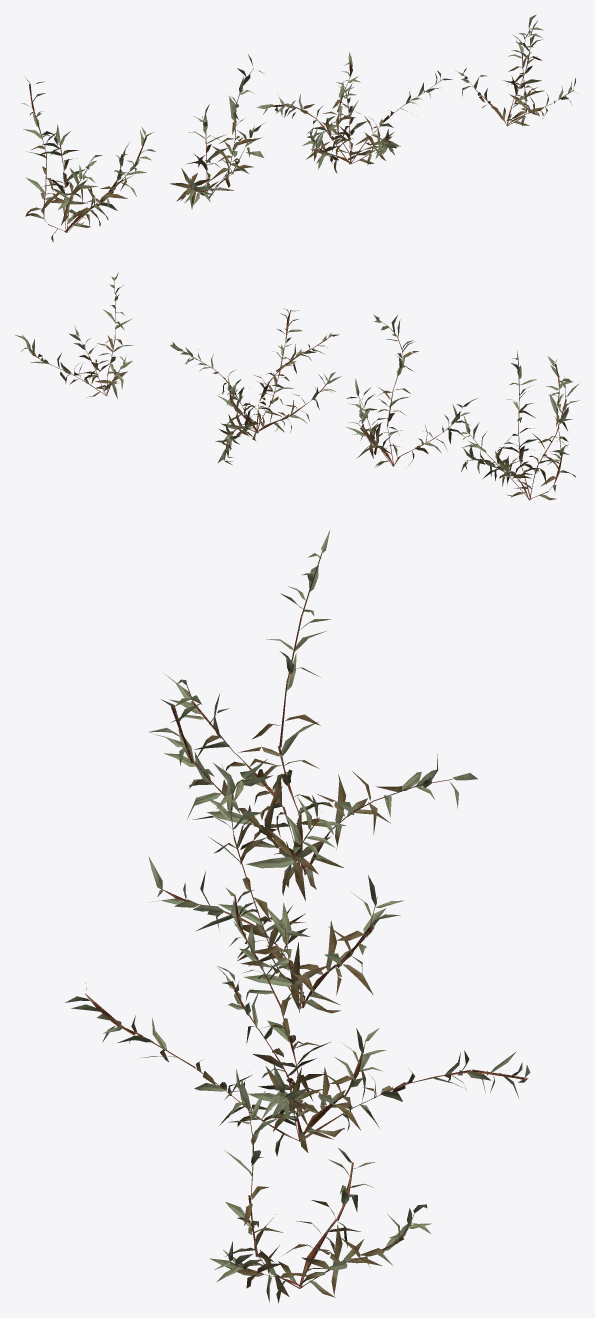
The model's file is shrub_02_lod1.glb.
3 views of the same model, one above another, from view 1: azimuth 30°, elevation 25°; view 2: azimuth 150°, elevation 25°; view 3: azimuth 270°, elevation 25° (orthographic). The views are drawn at different scales.
Visible parts, largest first — view 1: shrub_02_a, shrub_02_c, shrub_02_b, shrub_02_d; view 2: shrub_02_a, shrub_02_c, shrub_02_b, shrub_02_d; view 3: shrub_02_a, shrub_02_c, shrub_02_b, shrub_02_d.
Part boxes in pixels (<box>): shrub_02_a: <box>21,76,155,242</box>; shrub_02_c: <box>256,52,452,173</box>; shrub_02_b: <box>170,54,265,209</box>; shrub_02_d: <box>456,14,577,126</box>; shrub_02_a: <box>458,350,579,500</box>; shrub_02_c: <box>170,308,341,465</box>; shrub_02_b: <box>346,314,477,467</box>; shrub_02_d: <box>15,272,133,398</box>; shrub_02_a: <box>148,530,477,901</box>; shrub_02_c: <box>65,887,530,1156</box>; shrub_02_b: <box>148,759,403,1015</box>; shrub_02_d: <box>209,1069,431,1302</box>.
Bounding box in the file's own units: 6.03 × 1.69 × 2.29.
Materials: 1 (1 with a texture image).
